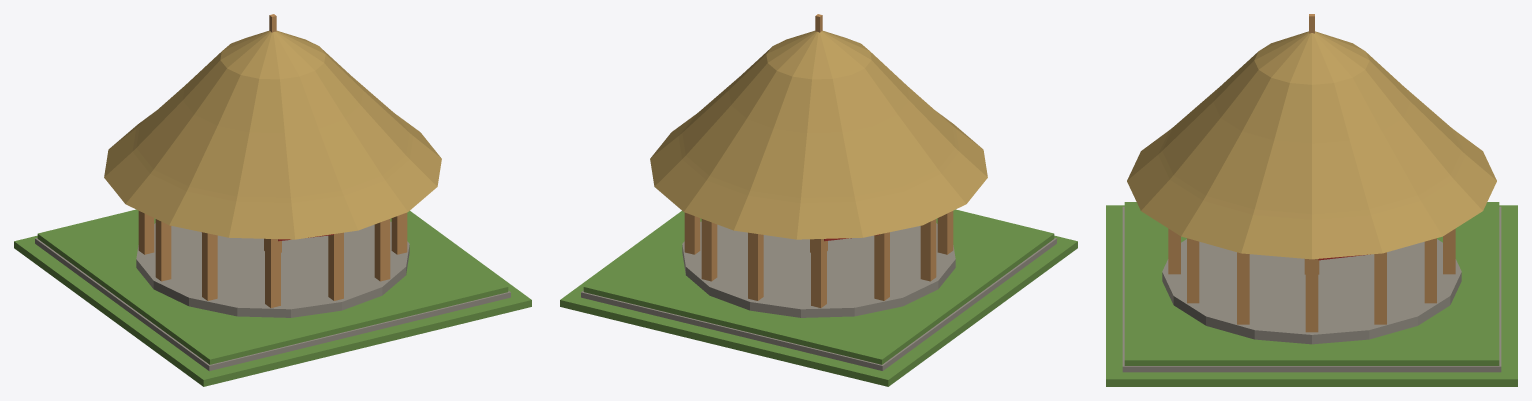
File: house-1x1-1f-fale-a.glb
3 renders of one model, left to right at view 1: azimuth 30°, elevation 25°; view 2: azimuth 150°, elevation 25°; view 3: azimuth 270°, elevation 25°, orthographic. The views are drawn at different scales.
Visible parts, largest first — view 1: house-1x1-1f-fale-a; view 2: house-1x1-1f-fale-a; view 3: house-1x1-1f-fale-a.
Part boxes in pixels (box(x1,y1,x2,y2)): house-1x1-1f-fale-a: box(14, 14, 531, 386); house-1x1-1f-fale-a: box(560, 14, 1077, 386); house-1x1-1f-fale-a: box(1106, 14, 1517, 386).
Bounding box in the file's own units: 0.99 × 0.755 × 0.99.
1 material, 1 textured.
